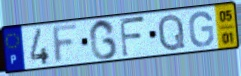4: (28, 26, 51, 66)
F: (118, 15, 148, 59), (51, 22, 81, 66)
G: (88, 18, 119, 62), (187, 10, 216, 49)
Q: (157, 12, 187, 53)
